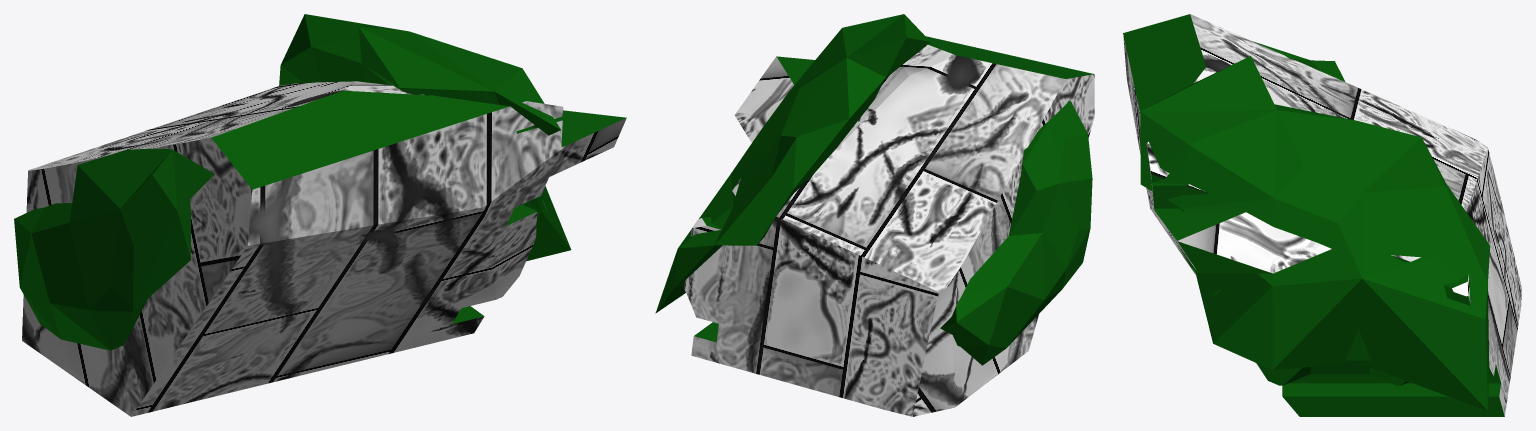
File: building_frag02.fbx
3 renders of one model, left to right at view 1: azimuth 30°, elevation 25°; view 2: azimuth 150°, elevation 25°; view 3: azimuth 270°, elevation 25°, orthographic. The views are drawn at different scales.
Visible parts, largest first — view 1: building_frag02; view 2: building_frag02; view 3: building_frag02.
Boxes of the visible parts, x1,y1,x2,y2 form: building_frag02: (14,14,626,416); building_frag02: (655,14,1094,416); building_frag02: (1123,14,1521,416).
Bounding box in the file's own units: 397 × 290 × 347.
